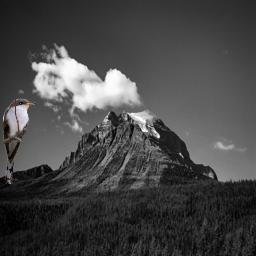Cuckoo: (2, 98, 35, 184)
